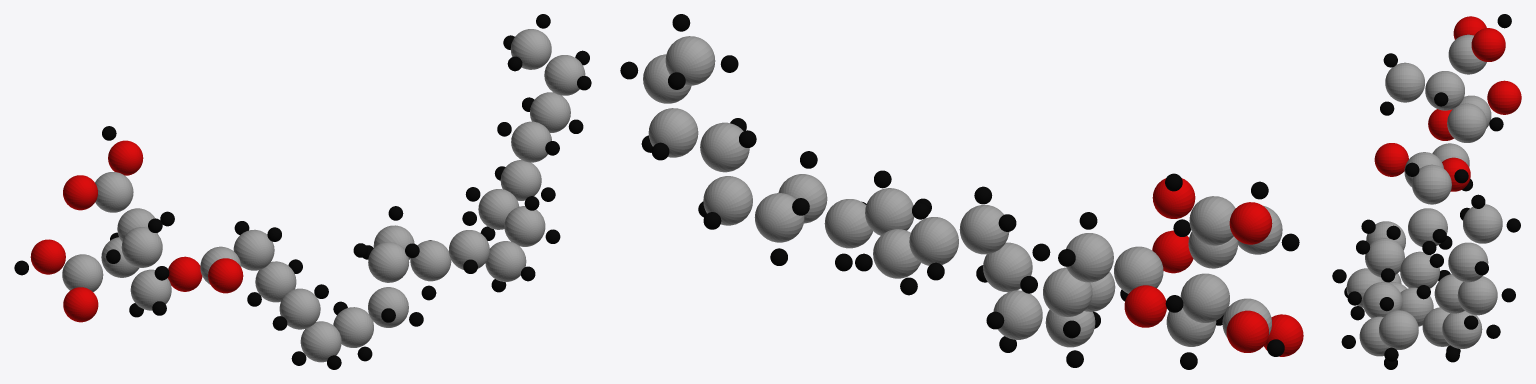
Rendered from Ascorbyl Palmitate.glb.
The picture shows the model from 3 angles, left to right: view 1: azimuth 30°, elevation 25°; view 2: azimuth 150°, elevation 25°; view 3: azimuth 270°, elevation 25°; orthographic projection. The views are drawn at different scales.
Parts seen in each view (by area): view 1: world; view 2: world; view 3: world.
Boxes of the visible parts, x1,y1,x2,y2 form: world: (14,14,591,369); world: (620,14,1303,369); world: (1332,14,1521,369).
Size of the model in its own units: 22.05 by 9.69 by 6.63.
